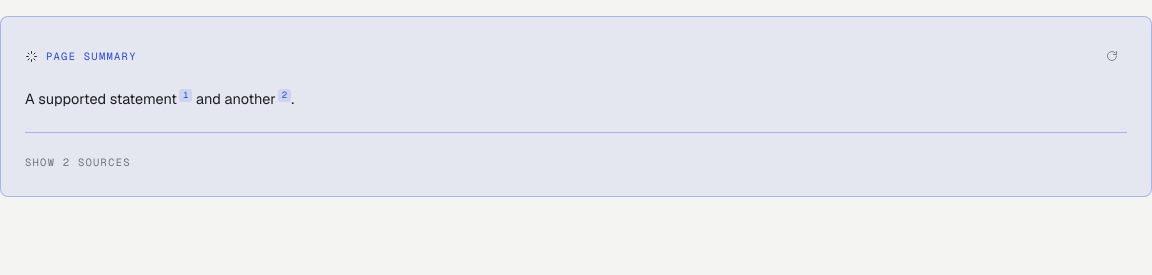
Test: HistoryDocumentSummary › keeps the source list collapsed until the reader asks for it
Step 1. Click the button "Show 2 sources" → (78, 162), box [25, 154, 131, 170]
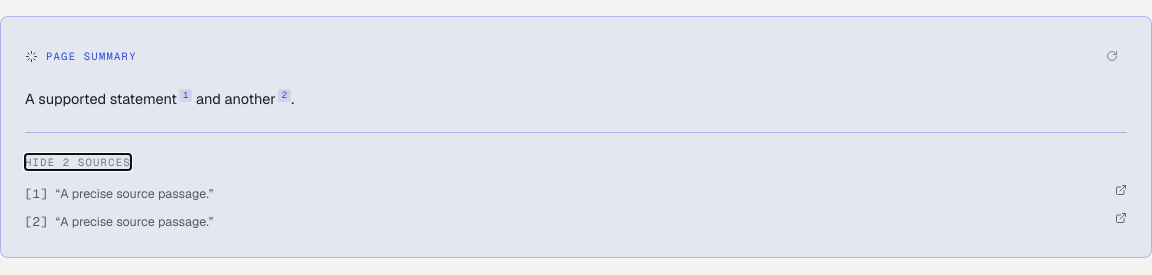
Expected: the list is shown, [25, 184, 1127, 232]
Step 2. Click the button "Hide 2 sources" → (78, 162), box [25, 154, 131, 170]
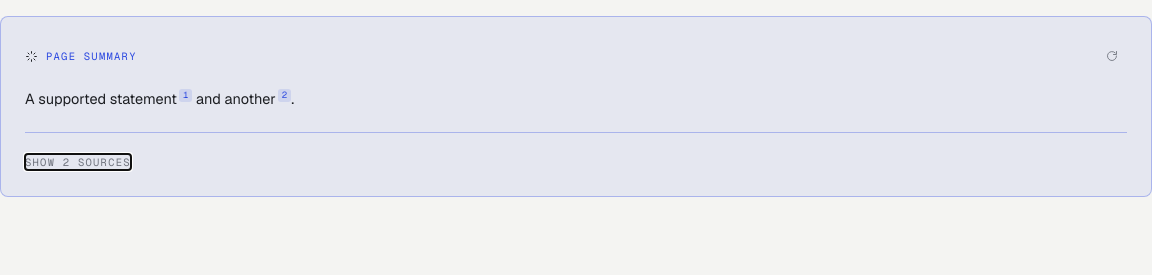
Expected: the list is gone
